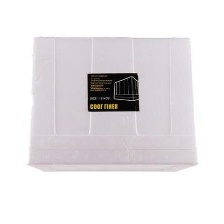foam_box: (21, 32, 200, 176)
